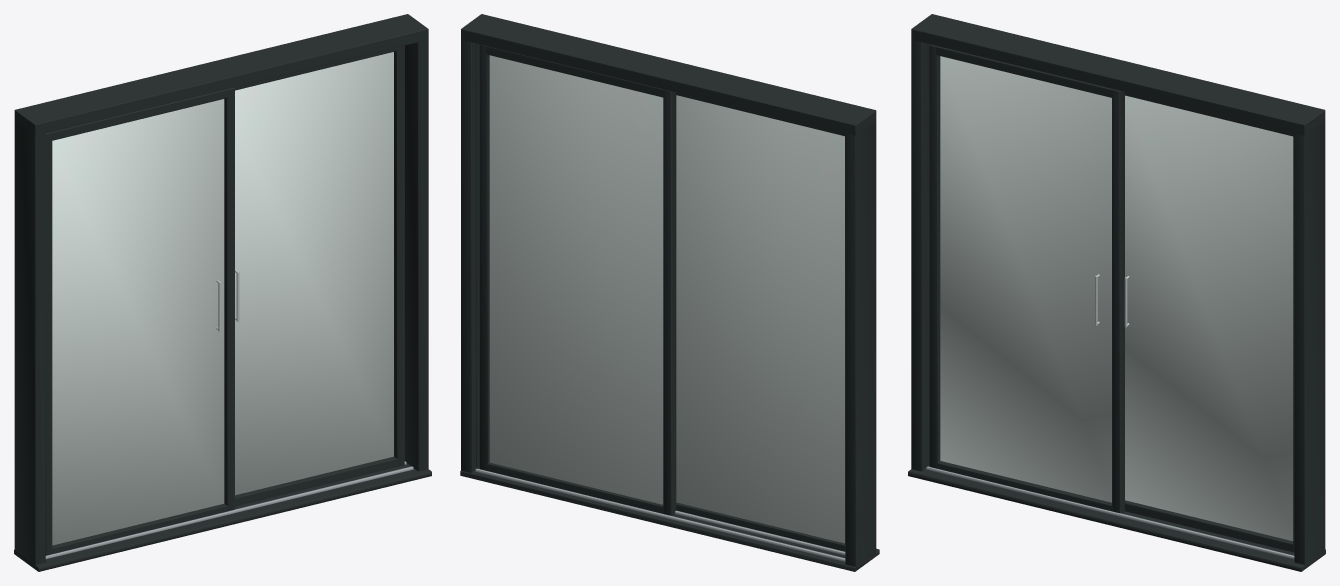
The model's file is sliding-patio-door.glb.
3 views of the same model, side by side, from view 1: azimuth 30°, elevation 25°; view 2: azimuth 150°, elevation 25°; view 3: azimuth 330°, elevation 25° (orthographic).
Parts seen in each view (by area): view 1: Sash | glass pane, Sash | glass pane.001, Frame | jamb, Frame | header, Frame | jamb.001, Frame | sill, Sash | stile.001, Sash | stile.003, Sash | stile, Sash | crossrail.002, Sash | crossrail.001, Sash | crossrail (+2 smaller); view 2: Sash | glass pane.001, Sash | glass pane, Frame | jamb, Frame | header, Frame | jamb.001, Sash | stile.002, Sash | stile.003, Frame | sill, Sash | crossrail.002, Frame | door stop.001, Slider | lower guide rail.002, Sash | crossrail.003 (+3 smaller); view 3: Sash | glass pane, Sash | glass pane.001, Frame | jamb.001, Frame | header, Frame | jamb, Sash | stile.001, Frame | sill, Sash | stile, Sash | crossrail.002, Sash | crossrail.001, Sash | crossrail, Slider | lower guide rail (+2 smaller).
Boxes of the visible parts, x1=… form: Sash | glass pane: x1=52, y1=99, x2=224, y2=545; Sash | glass pane.001: x1=235, y1=52, x2=393, y2=495; Frame | jamb: x1=14, y1=110, x2=45, y2=568; Frame | header: x1=14, y1=14, x2=428, y2=135; Frame | jamb.001: x1=405, y1=27, x2=428, y2=471; Frame | sill: x1=14, y1=463, x2=431, y2=571; Sash | stile.001: x1=224, y1=87, x2=234, y2=510; Sash | stile.003: x1=394, y1=45, x2=404, y2=466; Sash | stile: x1=45, y1=132, x2=52, y2=555; Sash | crossrail.002: x1=235, y1=456, x2=398, y2=506; Sash | crossrail.001: x1=51, y1=89, x2=228, y2=140; Sash | crossrail: x1=52, y1=503, x2=228, y2=553; Sash | glass pane.001: x1=489, y1=55, x2=663, y2=504; Sash | glass pane: x1=676, y1=95, x2=844, y2=543; Frame | jamb: x1=845, y1=110, x2=876, y2=570; Frame | header: x1=461, y1=14, x2=876, y2=135; Frame | jamb.001: x1=461, y1=17, x2=479, y2=472; Sash | stile.002: x1=663, y1=89, x2=676, y2=515; Sash | stile.003: x1=480, y1=44, x2=489, y2=470; Frame | sill: x1=460, y1=467, x2=879, y2=571; Sash | crossrail.002: x1=487, y1=462, x2=664, y2=513; Frame | door stop.001: x1=476, y1=43, x2=479, y2=468; Slider | lower guide rail.002: x1=475, y1=468, x2=845, y2=561; Sash | crossrail.003: x1=486, y1=46, x2=664, y2=97; Sash | glass pane: x1=940, y1=56, x2=1111, y2=502; Sash | glass pane.001: x1=1125, y1=95, x2=1293, y2=540; Frame | jamb.001: x1=1294, y1=119, x2=1325, y2=567; Frame | header: x1=912, y1=14, x2=1325, y2=135; Frame | jamb: x1=911, y1=29, x2=929, y2=471; Sash | stile.001: x1=1112, y1=89, x2=1124, y2=513; Frame | sill: x1=908, y1=466, x2=1325, y2=571; Sash | stile: x1=929, y1=44, x2=940, y2=468; Sash | crossrail.002: x1=1125, y1=500, x2=1294, y2=552; Sash | crossrail.001: x1=936, y1=46, x2=1113, y2=97; Sash | crossrail: x1=936, y1=461, x2=1113, y2=511; Slider | lower guide rail: x1=926, y1=466, x2=1294, y2=559.
Size of the model in its own units: 2.04 by 2.21 by 0.2219.
4 materials, 4 textured.
